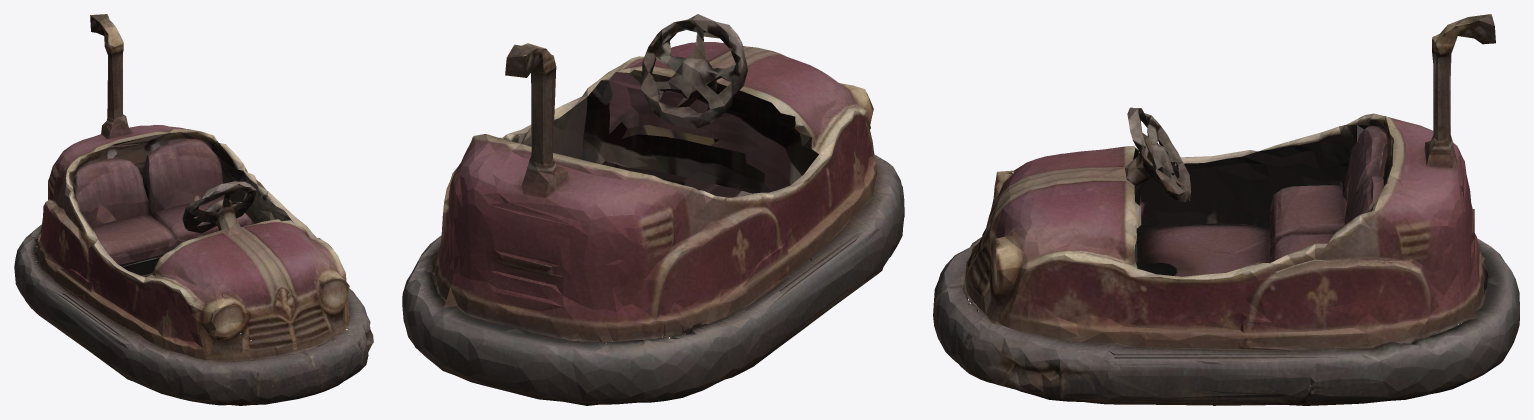
Rendered from park_bumper_car_1117.glb.
3 views of the same model, side by side, from view 1: azimuth 30°, elevation 25°; view 2: azimuth 150°, elevation 25°; view 3: azimuth 270°, elevation 25° (orthographic). The views are drawn at different scales.
Visible parts, largest first — view 1: world; view 2: world; view 3: world.
Part boxes in pixels (x1,y1,x2,y2): world: [14, 14, 373, 405]; world: [402, 14, 904, 405]; world: [933, 14, 1519, 405].
Bounding box in the file's own units: 1.05 × 1 × 1.67.
1 material, 1 textured.
